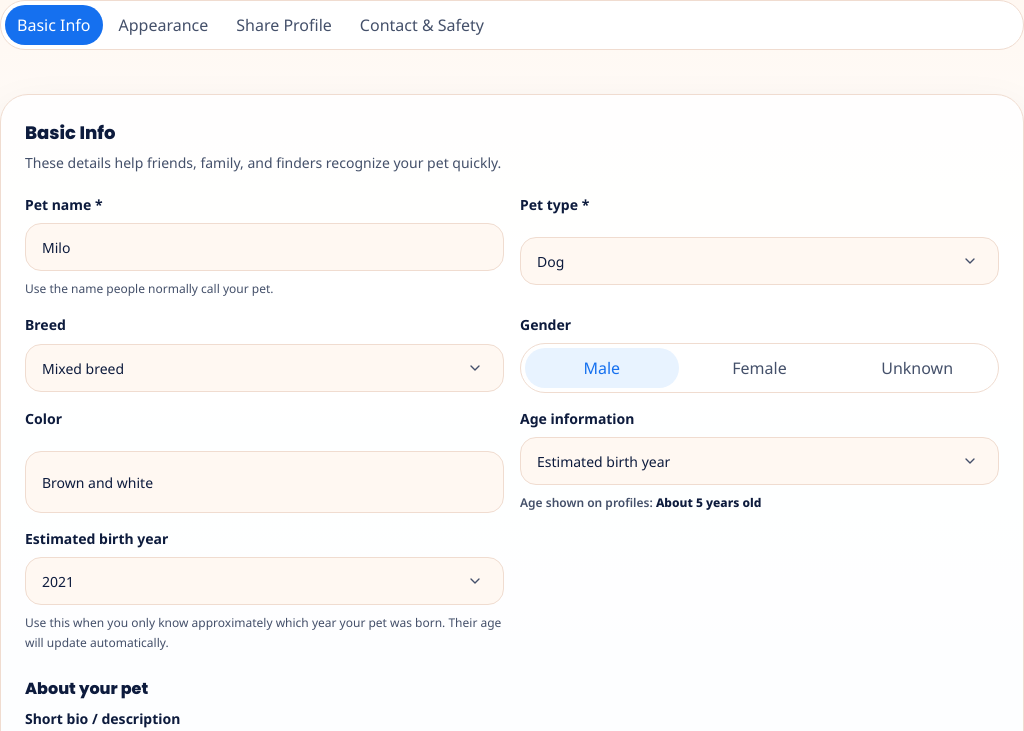
PetProfileForm lifecycle workflow › supports arrow, Home, and End keyboard selection within the theme group
This screenshot has width=1024, height=731.
Click the tab "Appearance" at (163, 25), box [106, 5, 220, 45]
(page scrolled)
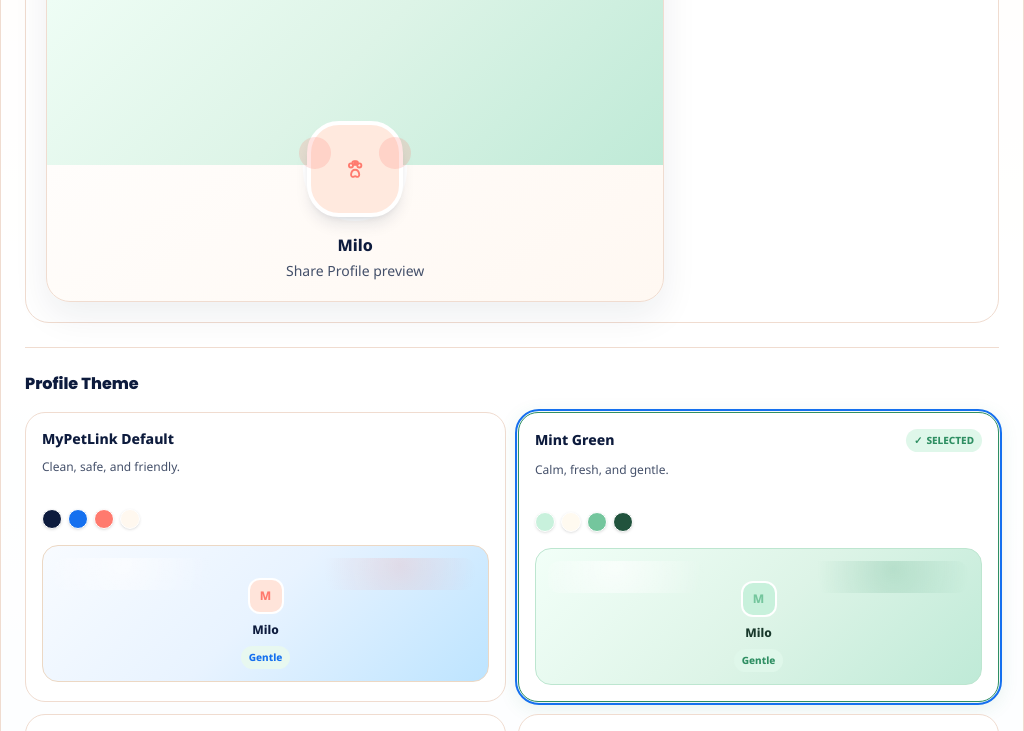
Press ArrowDown in the radio button labelled "Mint Green ✓ Selected Calm, fresh, and gentle. M Milo Gentle", box [518, 412, 999, 702]
(page scrolled)
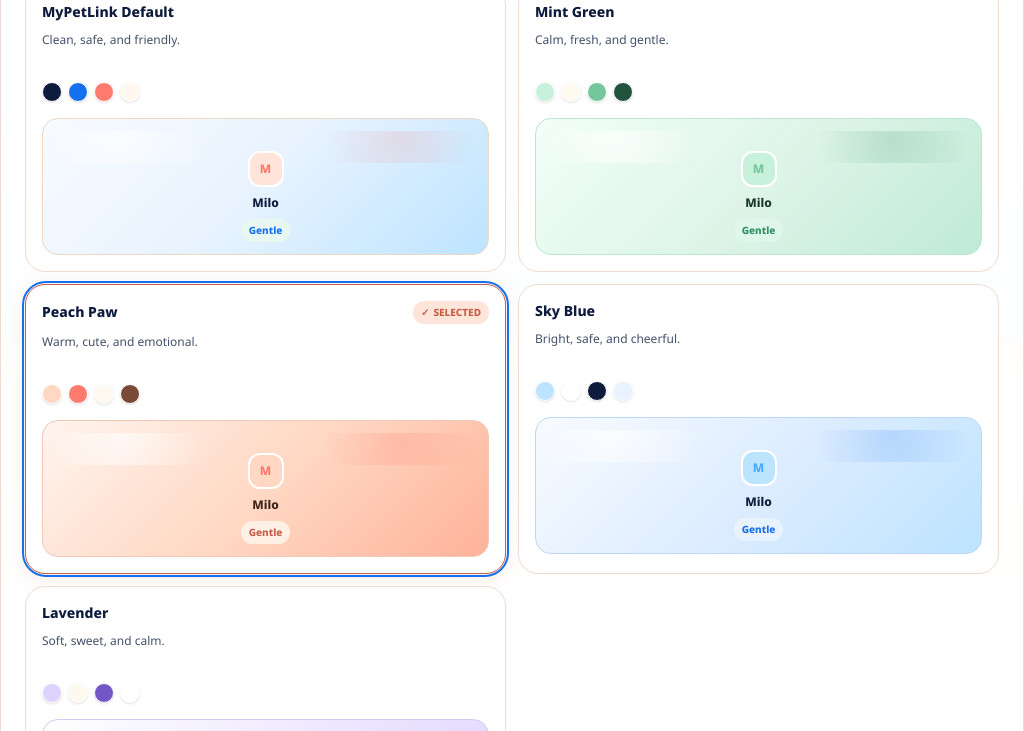
Expected: the radio button labelled "Peach Paw" is checked
Press End in the radio button labelled "Peach Paw", box [25, 284, 506, 574]
(page scrolled)
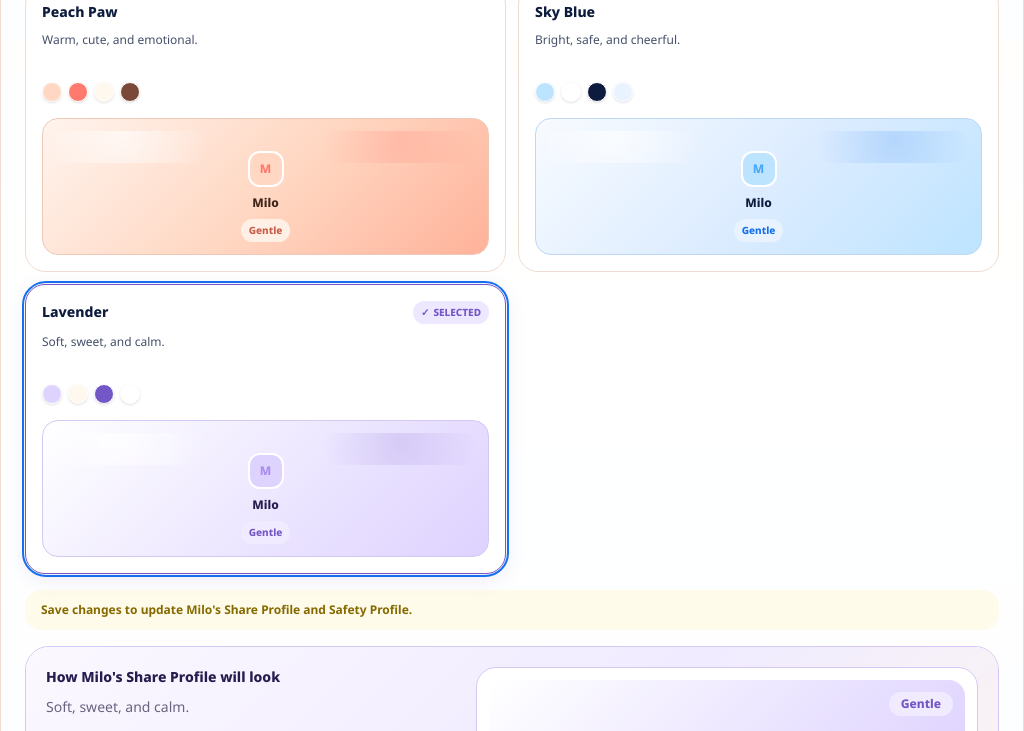
Expected: the radio button labelled "Lavender ✓ Selected Soft, sweet, and calm. M Milo Gentle" is checked
Press Home in the radio button labelled "Lavender ✓ Selected Soft, sweet, and calm. M Milo Gentle", box [25, 284, 506, 574]
(page scrolled)
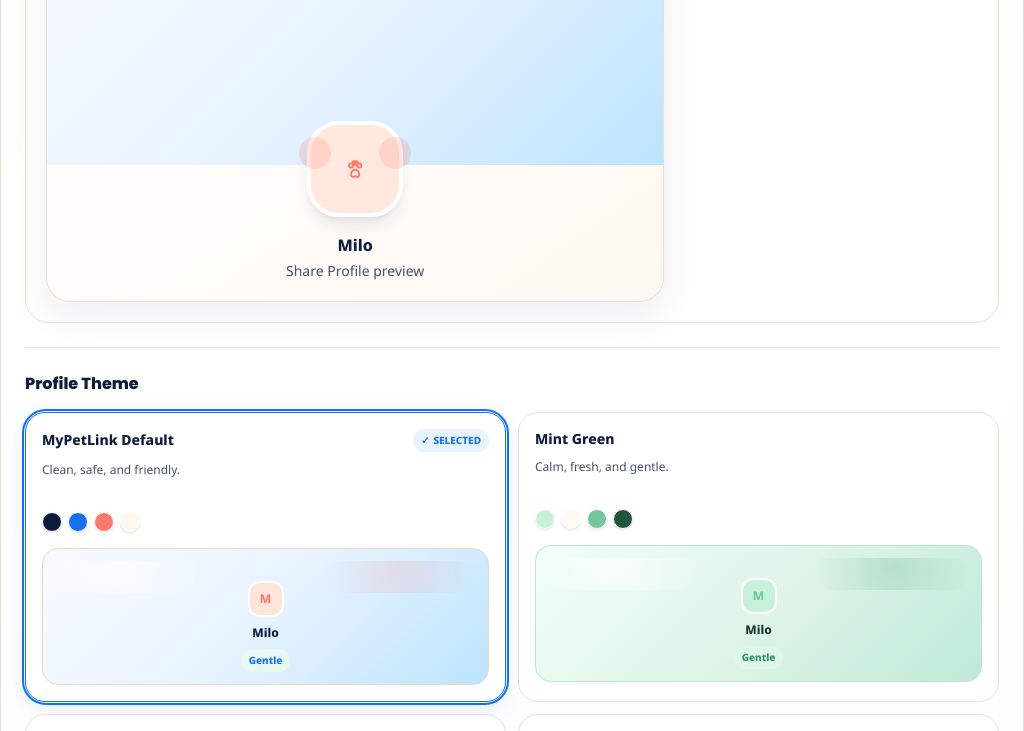
Expected: the radio button labelled "MyPetLink Default" is checked, [25, 412, 506, 702]
